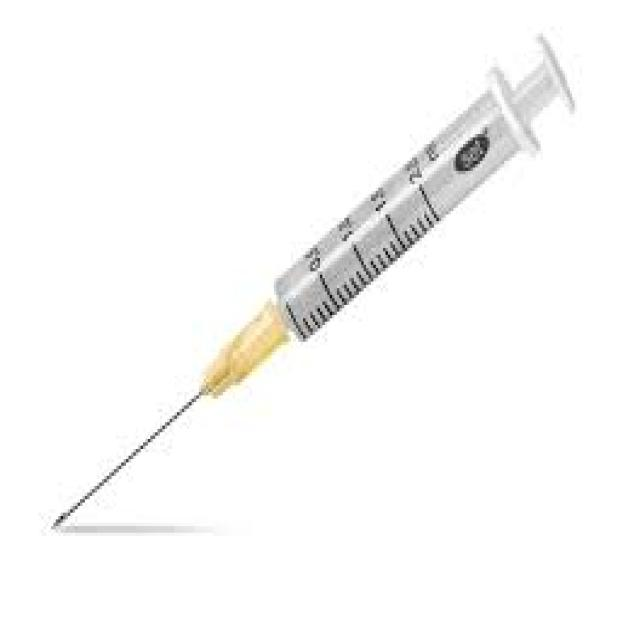syringe: (48, 27, 574, 529)
